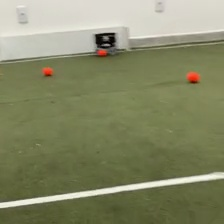ball: (187, 69, 200, 83), (43, 65, 53, 75), (98, 48, 106, 56)
goal: (1, 24, 130, 63)
robot: (93, 32, 117, 56)
